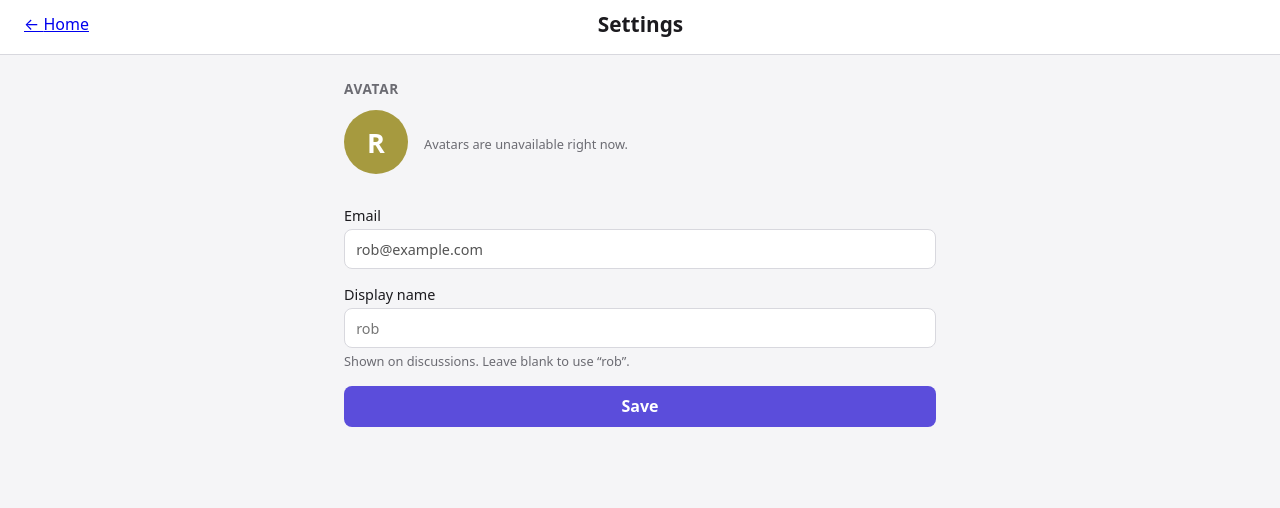
SettingsPage › loads the profile (blank name placeholders the email prefix) and saves a new display name
Type "Rob B" into the field labelled "Display name Shown on discussions. Leave blank to use “rob”." at (640, 328), box left=344, top=308, right=936, bottom=348
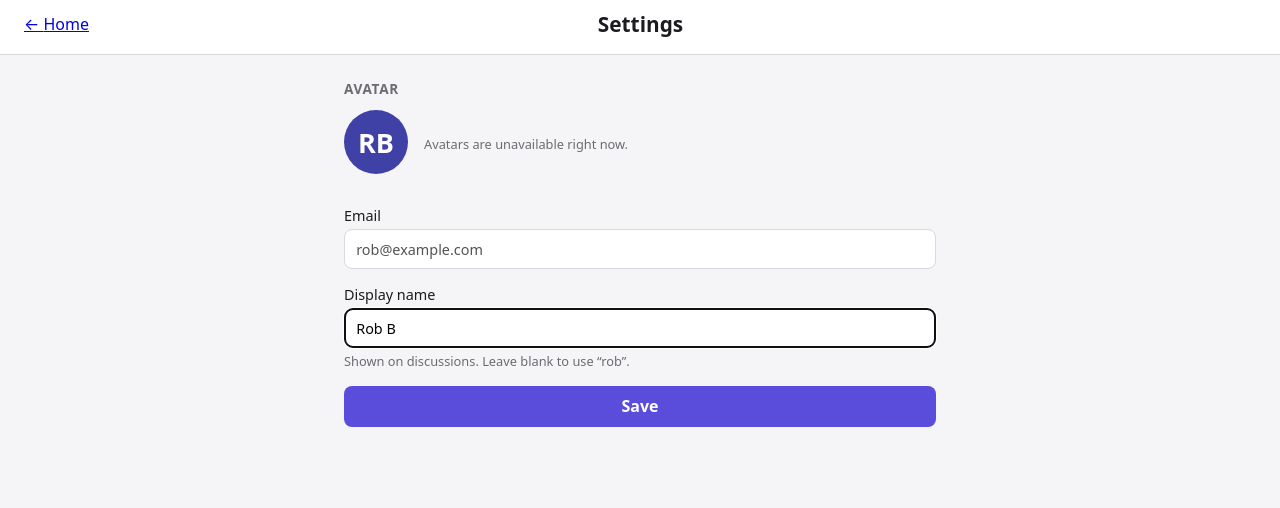
Click the button "Save" at (640, 406), box left=344, top=386, right=936, bottom=427
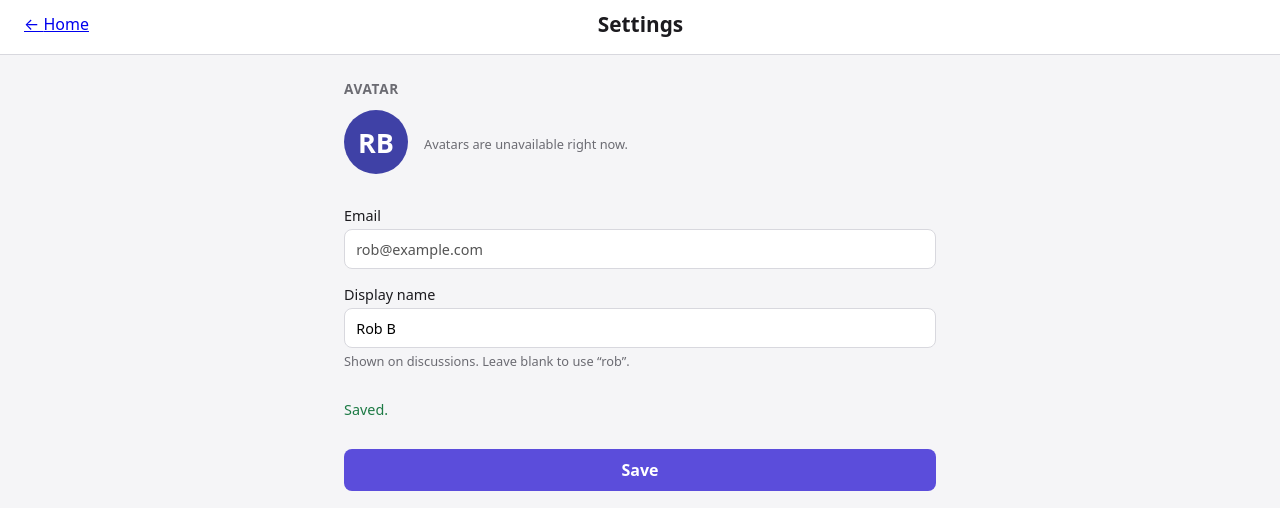
Expected: the text "Saved." is shown, left=344, top=400, right=388, bottom=419
